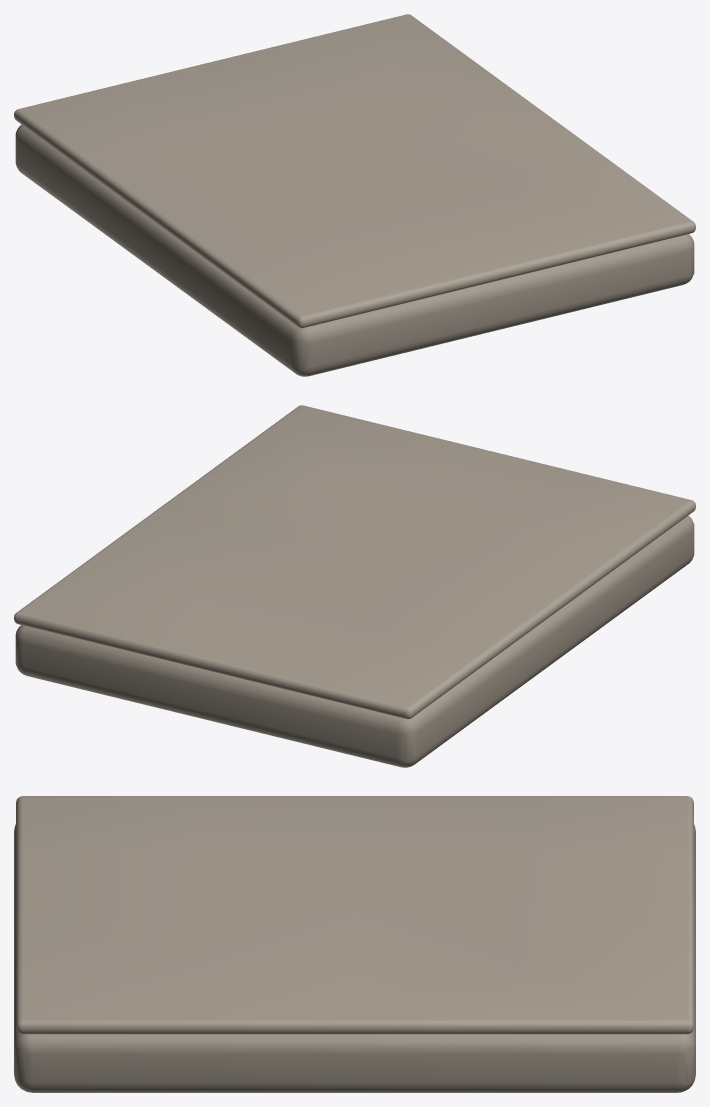
The model's file is mattress-double.glb.
3 views of the same model, one above another, from view 1: azimuth 30°, elevation 25°; view 2: azimuth 150°, elevation 25°; view 3: azimuth 270°, elevation 25° (orthographic). The views are drawn at different scales.
Parts seen in each view (by area): view 1: EQ_Mobile_mattress-double_Upholstery; view 2: EQ_Mobile_mattress-double_Upholstery; view 3: EQ_Mobile_mattress-double_Upholstery.
Boxes of the visible parts, x1,y1,x2,y2 form: EQ_Mobile_mattress-double_Upholstery: (14,14,695,376); EQ_Mobile_mattress-double_Upholstery: (14,405,695,767); EQ_Mobile_mattress-double_Upholstery: (14,796,695,1092).
Bounding box in the file's own units: 1.6 × 0.2488 × 2.
